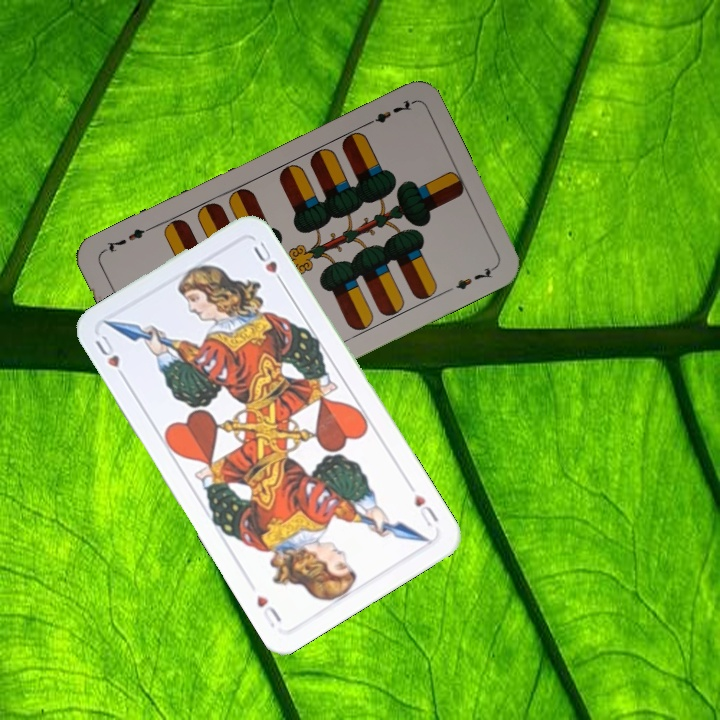E7: (360, 96, 415, 129)
HU: (91, 331, 130, 384), (404, 480, 441, 530)
